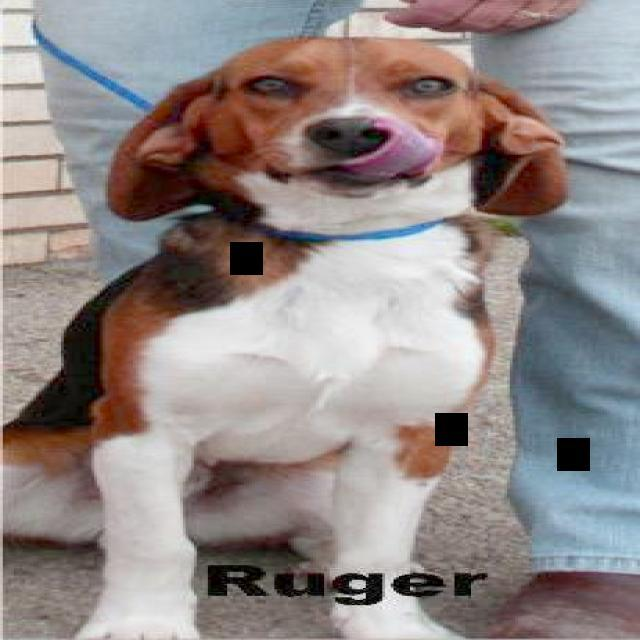adult_dog: (1, 30, 574, 640)
